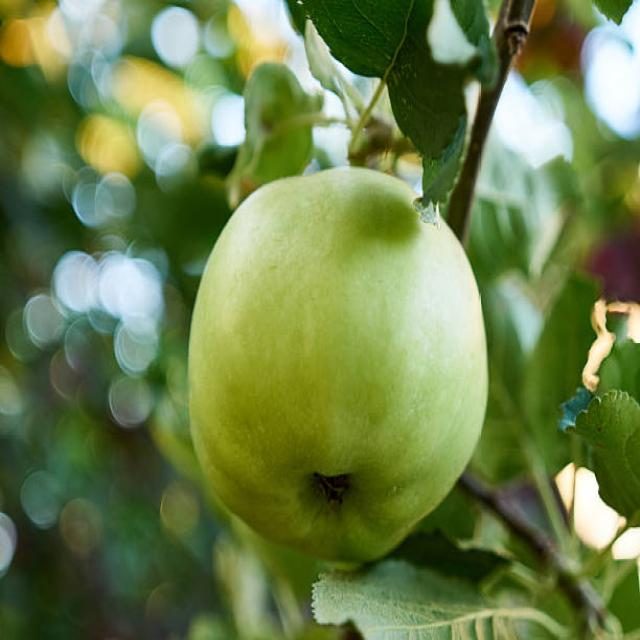Unripe: (186, 165, 489, 565)
